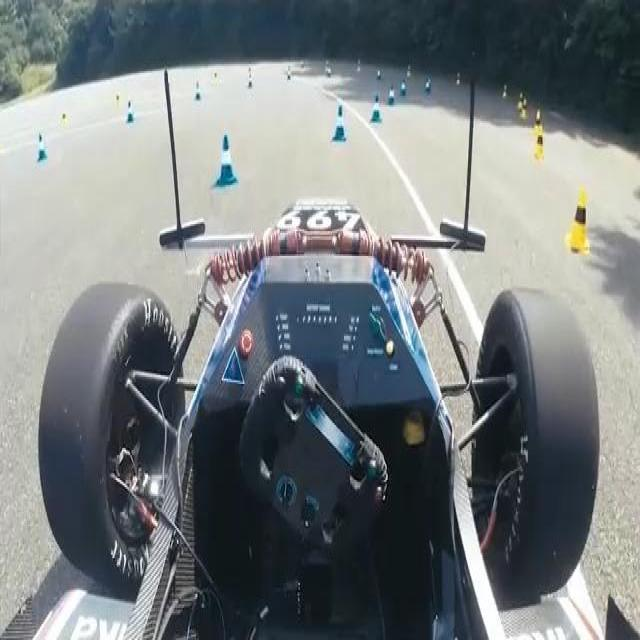blue_cone: (211, 130, 242, 190), (329, 101, 349, 148), (32, 128, 49, 165), (369, 89, 385, 126), (398, 76, 410, 102), (124, 100, 135, 128), (387, 82, 397, 107), (192, 78, 201, 104), (422, 76, 432, 95)
yellow_cone: (565, 183, 590, 265), (534, 133, 547, 164), (534, 108, 548, 136), (519, 94, 528, 126), (517, 89, 525, 111)
